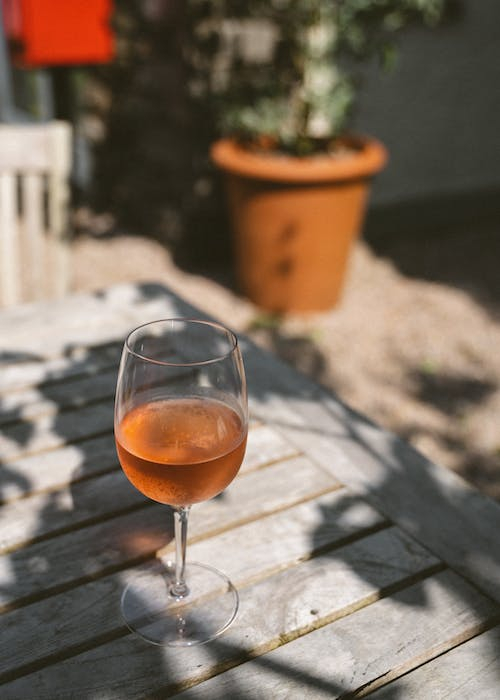alcohol: (111, 317, 250, 651)
